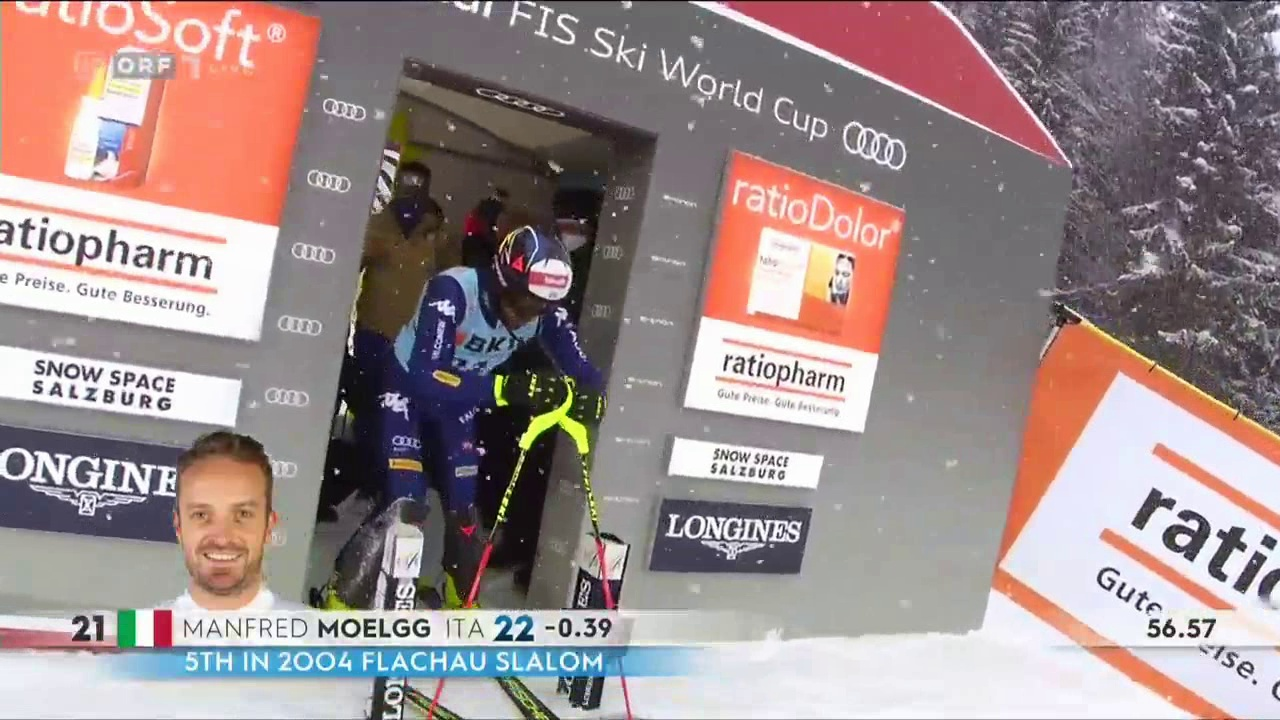audi: (845, 123, 911, 175), (318, 98, 373, 130), (304, 170, 357, 201), (288, 243, 343, 271), (275, 314, 329, 342), (261, 386, 315, 414), (265, 458, 305, 483), (596, 246, 631, 268), (588, 302, 622, 324), (608, 185, 642, 202)
etron: (625, 374, 665, 391), (651, 253, 690, 269), (638, 315, 678, 329), (602, 493, 645, 506), (614, 434, 651, 448)
longines: (2, 429, 182, 545), (662, 509, 803, 580)
ratiopharm: (1, 178, 222, 318), (716, 343, 860, 416)
